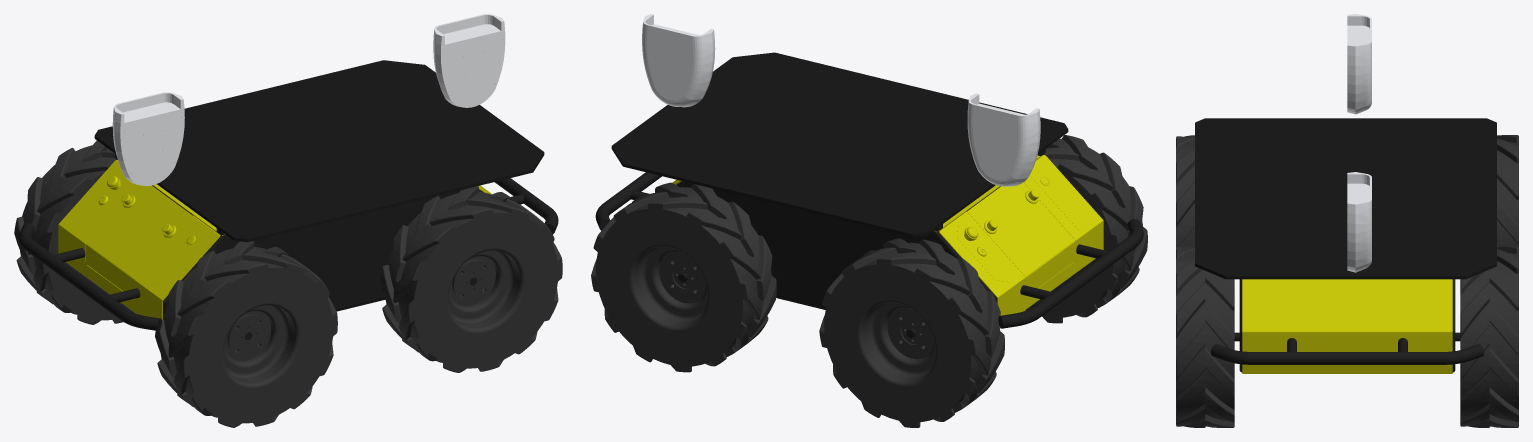
File: husky.glb
The picture shows the model from 3 angles, left to right: view 1: azimuth 30°, elevation 25°; view 2: azimuth 150°, elevation 25°; view 3: azimuth 270°, elevation 25°; orthographic projection.
Parts seen in each view (by area): view 1: Wheel (×3), Top_Plate, Top_Chassis, Base_Link, antA, antB, Bumper (×2); view 2: Wheel (×3), Top_Plate, Top_Chassis, Base_Link, antB, antA, Bumper (×2); view 3: Top_Plate, Wheel (×4), Top_Chassis, Bumper, antA, antB, Base_Link.
Part boxes in pixels (x1=…): Wheel (×3): x1=14, y1=140, x2=562, y2=427; Top_Plate: x1=94, y1=60, x2=544, y2=242; Top_Chassis: x1=58, y1=160, x2=492, y2=319; Base_Link: x1=116, y1=159, x2=483, y2=340; antA: x1=433, y1=14, x2=505, y2=107; antB: x1=112, y1=92, x2=184, y2=185; Bumper (×2): x1=19, y1=178, x2=558, y2=330; Wheel (×3): x1=591, y1=135, x2=1147, y2=427; Top_Plate: x1=611, y1=52, x2=1068, y2=237; Top_Chassis: x1=672, y1=155, x2=1103, y2=328; Base_Link: x1=676, y1=154, x2=1044, y2=338; antB: x1=967, y1=93, x2=1040, y2=186; antA: x1=642, y1=14, x2=715, y2=107; Bumper (×2): x1=595, y1=172, x2=1143, y2=328; Top_Plate: x1=1195, y1=118, x2=1496, y2=279; Wheel (×4): x1=1176, y1=135, x2=1518, y2=427; Top_Chassis: x1=1242, y1=279, x2=1452, y2=373; Bumper: x1=1210, y1=338, x2=1484, y2=364; antA: x1=1347, y1=172, x2=1371, y2=272; antB: x1=1347, y1=14, x2=1371, y2=114; Base_Link: x1=1234, y1=279, x2=1460, y2=372.
Bounding box in the file's own units: 0.9902 × 0.5745 × 0.6693.
